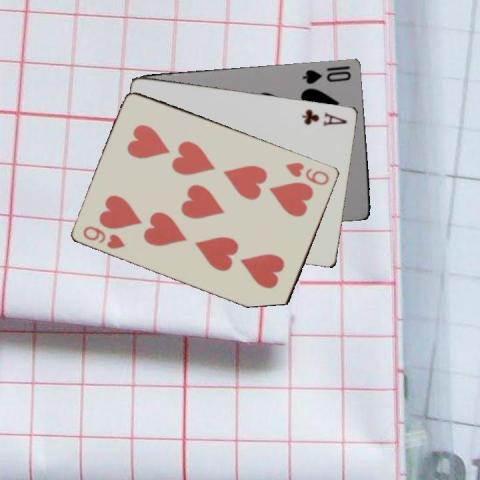10s: (300, 66, 352, 85)
9h: (283, 158, 331, 186), (80, 222, 127, 250)
Ac: (298, 105, 348, 127)
